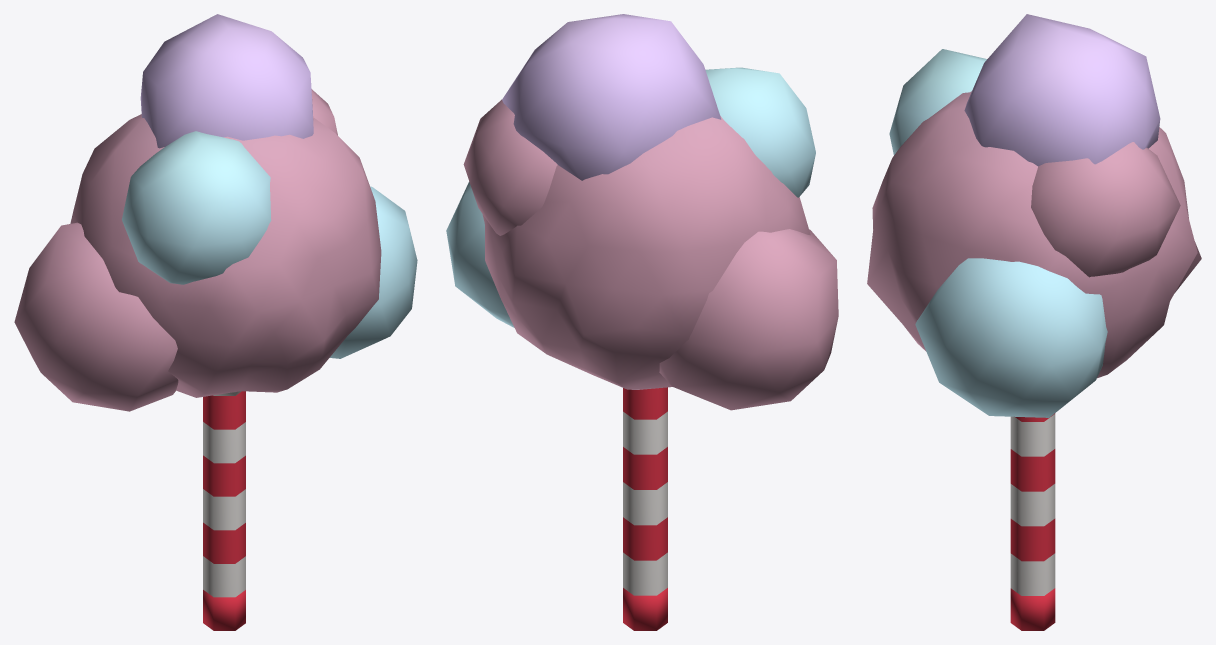
The model's file is candy_floss.glb.
3 renders of one model, left to right at view 1: azimuth 30°, elevation 25°; view 2: azimuth 150°, elevation 25°; view 3: azimuth 270°, elevation 25°, orthographic. The views are drawn at different scales.
Parts seen in each view (by area): view 1: C_Floss__C_floss_p_8, C_Floss__C_floss_a_8, C_Floss__C_floss_l_8, C_Floss__C_red_2, C_Floss__C_white_2; view 2: C_Floss__C_floss_p_8, C_Floss__C_floss_l_8, C_Floss__C_floss_a_8, C_Floss__C_red_2, C_Floss__C_white_2; view 3: C_Floss__C_floss_p_8, C_Floss__C_floss_a_8, C_Floss__C_floss_l_8, C_Floss__C_red_2, C_Floss__C_white_2.
Part boxes in pixels (box(x1,y1,x2,y2)): C_Floss__C_floss_p_8: box(14, 89, 381, 411); C_Floss__C_floss_a_8: box(122, 131, 417, 358); C_Floss__C_floss_l_8: box(140, 14, 313, 148); C_Floss__C_red_2: box(203, 391, 245, 630); C_Floss__C_white_2: box(203, 391, 245, 597); C_Floss__C_floss_p_8: box(463, 99, 838, 410); C_Floss__C_floss_l_8: box(502, 14, 721, 180); C_Floss__C_floss_a_8: box(446, 67, 815, 327); C_Floss__C_red_2: box(623, 387, 667, 630); C_Floss__C_white_2: box(623, 411, 667, 595); C_Floss__C_floss_p_8: box(867, 91, 1201, 378); C_Floss__C_floss_a_8: box(889, 49, 1107, 417); C_Floss__C_floss_l_8: box(964, 14, 1160, 166); C_Floss__C_red_2: box(1010, 413, 1055, 630); C_Floss__C_white_2: box(1010, 414, 1055, 595).
Bounding box in the file's own units: 3.16 × 4.76 × 2.4.
